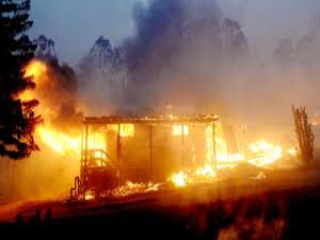fire: (107, 115, 301, 195), (20, 56, 108, 195)
